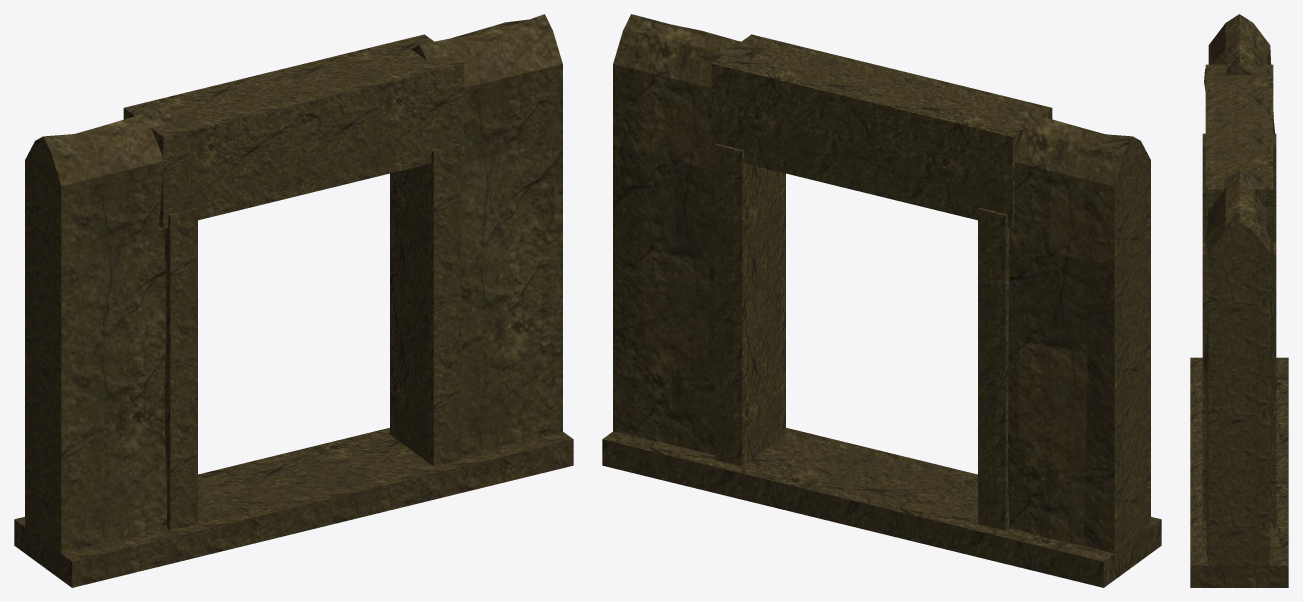
Rendered from cave_gate_01_limestone.glb.
3 renders of one model, left to right at view 1: azimuth 30°, elevation 25°; view 2: azimuth 150°, elevation 25°; view 3: azimuth 270°, elevation 25°, orthographic. The views are drawn at different scales.
Parts seen in each view (by area): view 1: cave_gate_01_limestone; view 2: cave_gate_01_limestone; view 3: cave_gate_01_limestone.
Part boxes in pixels (<box>): cave_gate_01_limestone: <box>14,14,573,587</box>; cave_gate_01_limestone: <box>602,14,1161,587</box>; cave_gate_01_limestone: <box>1190,14,1288,587</box>.
Bounding box in the file's own units: 4 × 3.28 × 0.8.
Materials: 2 (2 with a texture image).
